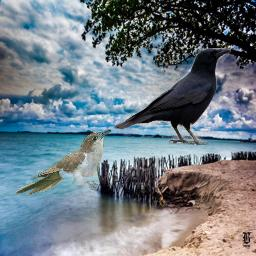Crow: (114, 48, 231, 145)
Cuckoo: (14, 129, 112, 195)
